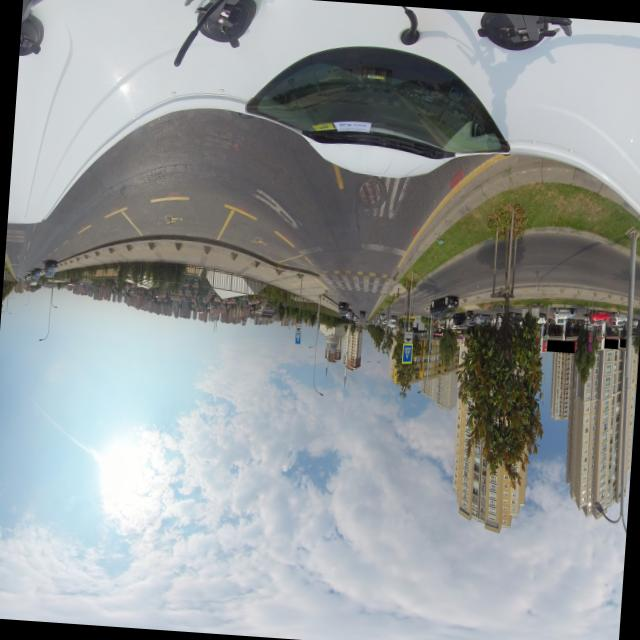SignStore: (545, 339, 574, 350), (603, 338, 617, 347), (618, 338, 625, 346)
